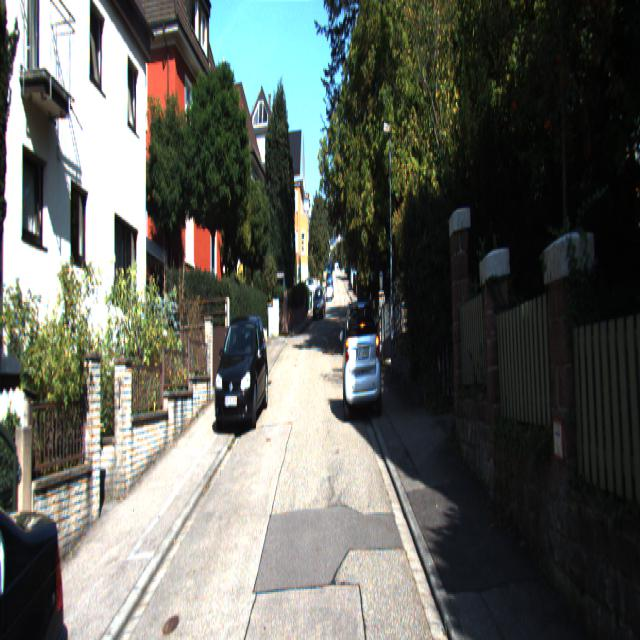Car: (0, 407, 83, 639), (212, 316, 270, 438), (342, 292, 383, 420)
